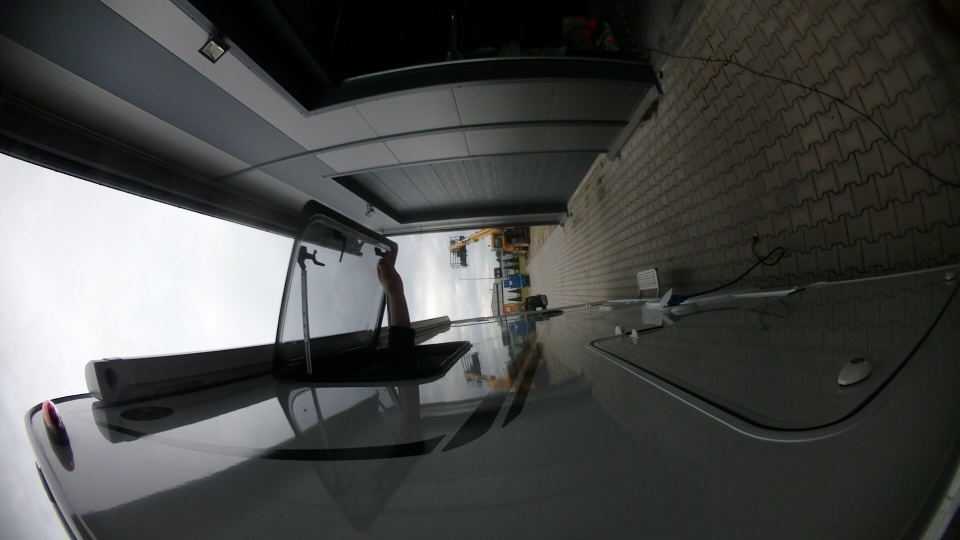step_back: (628, 263, 664, 298)
window_back: (260, 191, 466, 384)
